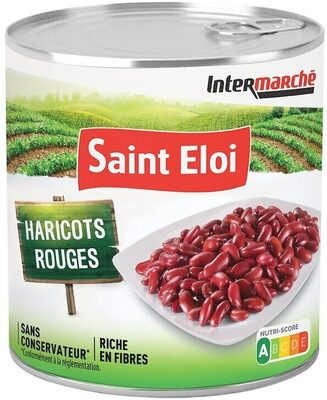Haricots rouges - 1/2: (16, 20, 311, 380)
